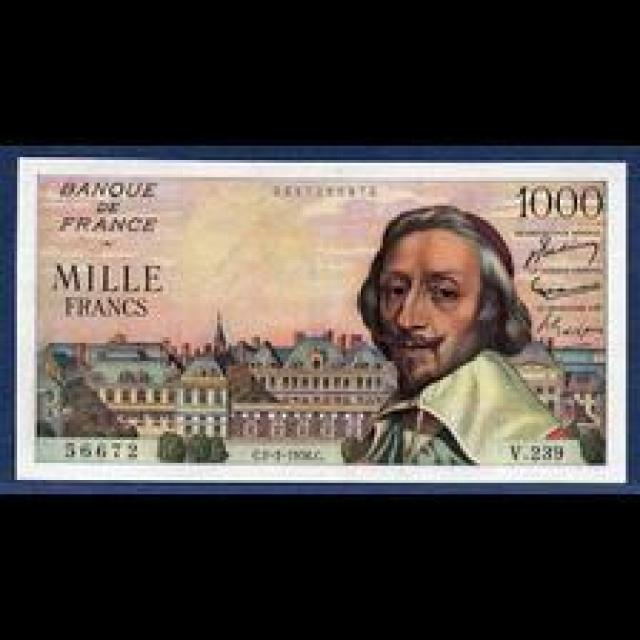banknote: (12, 153, 628, 485), (49, 258, 170, 298), (508, 183, 608, 225)
